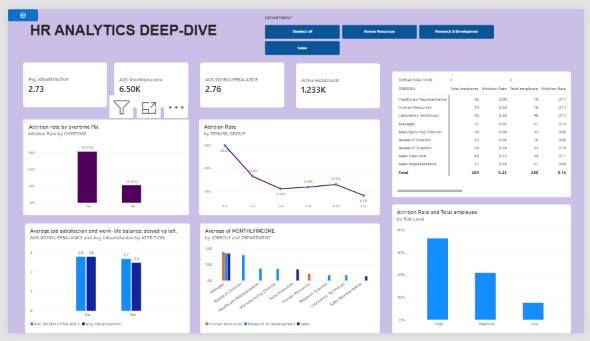

The dashboard page shown, as its layout file describes it:
{"tool":"powerbi","page":{"name":"Page 2","canvas":[1920,1080],"ordinal":1},"visuals":[{"type":"textbox","box":[73.9,43.5,652.2,123.9],"z":0},{"type":"advancedSlicerVisual","fields":{"Values":["hr_clean_data.DEPARTMENT"]},"box":[857.5,20,765,132.5],"z":1000},{"type":"cardVisual","fields":{"Data":["hr_clean_data.Avg Jobsatisfaction"]},"box":[50,175,280,150],"z":2000},{"type":"cardVisual","fields":{"Data":["SUM ATTRITION.AVG Monthlyincome"]},"box":[354.1,175.7,248.6,151.4],"z":3000},{"type":"cardVisual","fields":{"Data":["SUM ATTRITION.AVG WORKLIFEBALANCE"]},"box":[640.5,175.7,281.1,151.4],"z":4000},{"type":"cardVisual","fields":{"Data":["SUM ATTRITION.Active Headcount"]},"box":[959.5,178.4,280,150],"z":5000},{"type":"clusteredColumnChart","title":":Attrition rate by overtime (%).","fields":{"Category":["hr_clean_data.OVERTIME"],"Y":["SUM ATTRITION.Attrition Rate"]},"box":[50,366.7,553.3,320],"z":6000},{"type":"lineChart","fields":{"Category":["hr_clean_data.TENURE_GROUP"],"Y":["SUM ATTRITION.Attrition Rate"]},"box":[636.7,366.7,603.3,320],"z":7000},{"type":"pivotTable","fields":{"Columns":["hr_clean_data.JOBSATISFACTION"],"Rows":["hr_clean_data.JOBROLE"],"Values":["SUM ATTRITION.Total employee","SUM ATTRITION.Attrition Rate"]},"box":[1280,206.7,596.7,420],"z":8000},{"type":"clusteredColumnChart","title":"Average job satisfaction and work-life balance: stayed vs left.","fields":{"Category":["hr_clean_data.ATTRITION"],"Y":["SUM ATTRITION.AVG WORKLIFEBALANCE","hr_clean_data.Avg Jobsatisfaction"]},"box":[56.7,713.3,550,366.7],"z":9000},{"type":"clusteredColumnChart","fields":{"Category":["hr_clean_data.JOBROLE"],"Series":["hr_clean_data.DEPARTMENT"],"Y":["Avg(hr_clean_data.MONTHLYINCOME)"]},"box":[640,713.3,600,366.7],"z":10000},{"type":"clusteredColumnChart","fields":{"Category":["hr_clean_data.Risk Level"],"Y":["SUM ATTRITION.Attrition Rate"]},"box":[1280,650,596.7,430],"z":11000},{"type":"actionButton","box":[0,0,100,40],"z":12000}]}

Visuals, with their boxes in screenshot pixels (x1, y1, x2, y2), scaled from the page's 1920x1080 canvas onto the 590x341 screenshot:
textbox: bbox=(23, 14, 223, 53)
advancedSlicerVisual - hr_clean_data.DEPARTMENT: bbox=(264, 6, 499, 48)
cardVisual - hr_clean_data.Avg Jobsatisfaction: bbox=(15, 55, 101, 103)
cardVisual - SUM ATTRITION.AVG Monthlyincome: bbox=(109, 55, 185, 103)
cardVisual - SUM ATTRITION.AVG WORKLIFEBALANCE: bbox=(197, 55, 283, 103)
cardVisual - SUM ATTRITION.Active Headcount: bbox=(295, 56, 381, 104)
":Attrition rate by overtime (%)." clusteredColumnChart: bbox=(15, 116, 185, 217)
lineChart - hr_clean_data.TENURE_GROUP x SUM ATTRITION.Attrition Rate: bbox=(196, 116, 381, 217)
pivotTable - hr_clean_data.JOBSATISFACTION x hr_clean_data.JOBROLE: bbox=(393, 65, 577, 198)
"Average job satisfaction and work-life balance: stayed vs left." clusteredColumnChart: bbox=(17, 225, 186, 340)
clusteredColumnChart - hr_clean_data.JOBROLE x hr_clean_data.DEPARTMENT: bbox=(197, 225, 381, 340)
clusteredColumnChart - hr_clean_data.Risk Level x SUM ATTRITION.Attrition Rate: bbox=(393, 205, 577, 340)
actionButton: bbox=(0, 0, 31, 13)
